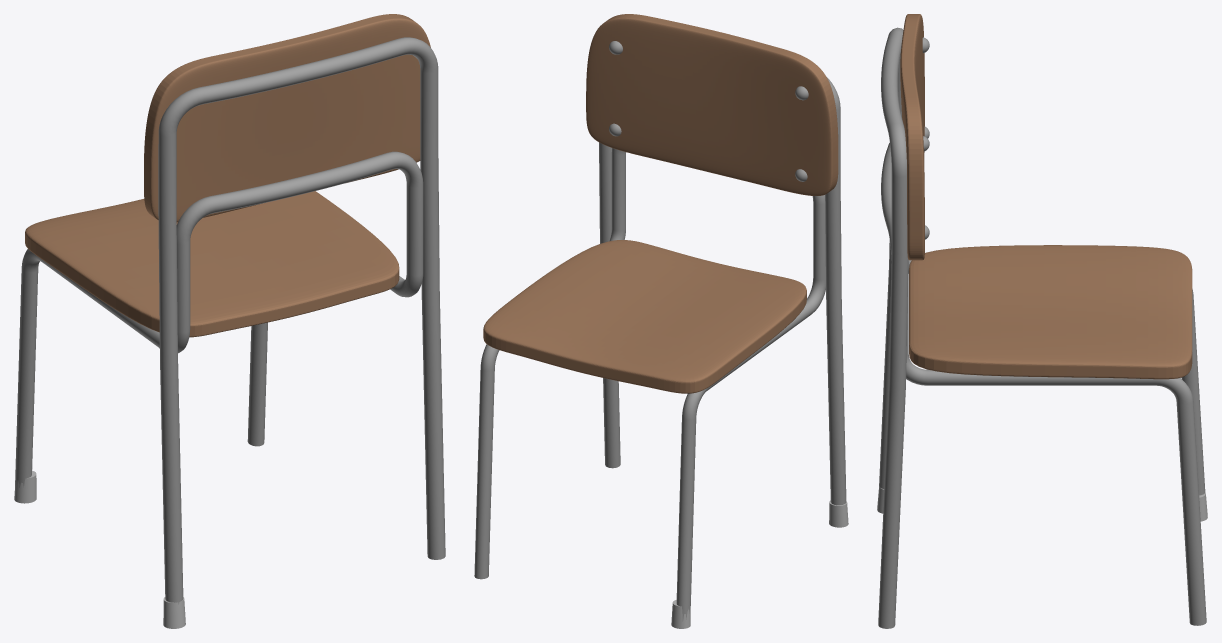
The model's file is chair_classroom.glb.
3 views of the same model, side by side, from view 1: azimuth 30°, elevation 25°; view 2: azimuth 150°, elevation 25°; view 3: azimuth 270°, elevation 25° (orthographic). The views are drawn at different scales.
Visible parts, largest first — view 1: 立方体.006, 立方体.005, 立方体.004, 立方体.003, 円柱.001; view 2: 立方体.006, 立方体.005, 立方体.003, 立方体.004; view 3: 立方体.005, 立方体.004, 立方体.003, 立方体.006.
Part boxes in pixels (x1,y1,x2,y2): 立方体.006: (144,14,430,222); 立方体.005: (25,191,399,337); 立方体.004: (158,37,445,604); 立方体.003: (15,151,423,487); 円柱.001: (163,597,185,628); 立方体.006: (586,14,838,195); 立方体.005: (483,240,806,393); 立方体.003: (474,148,825,621); 立方体.004: (599,77,846,505); 立方体.005: (909,245,1192,379); 立方体.004: (878,27,908,628); 立方体.003: (881,142,1206,625); 立方体.006: (900,14,924,260).
Size of the model in its own units: 0.9356 by 1.7 by 1.
